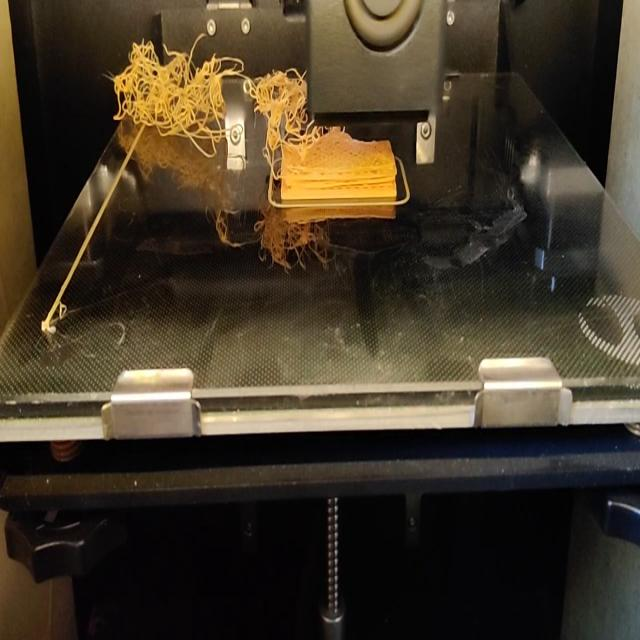spaghetti: (110, 33, 226, 159), (250, 61, 306, 168), (224, 54, 248, 94)
